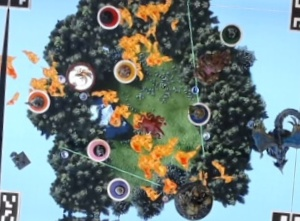blue: (184, 99, 213, 128)
green: (217, 21, 245, 48)
orange: (25, 87, 51, 113)
pink: (84, 135, 112, 162)
red: (93, 3, 122, 30)
violet: (104, 174, 132, 202)
yellow: (111, 56, 137, 83)
